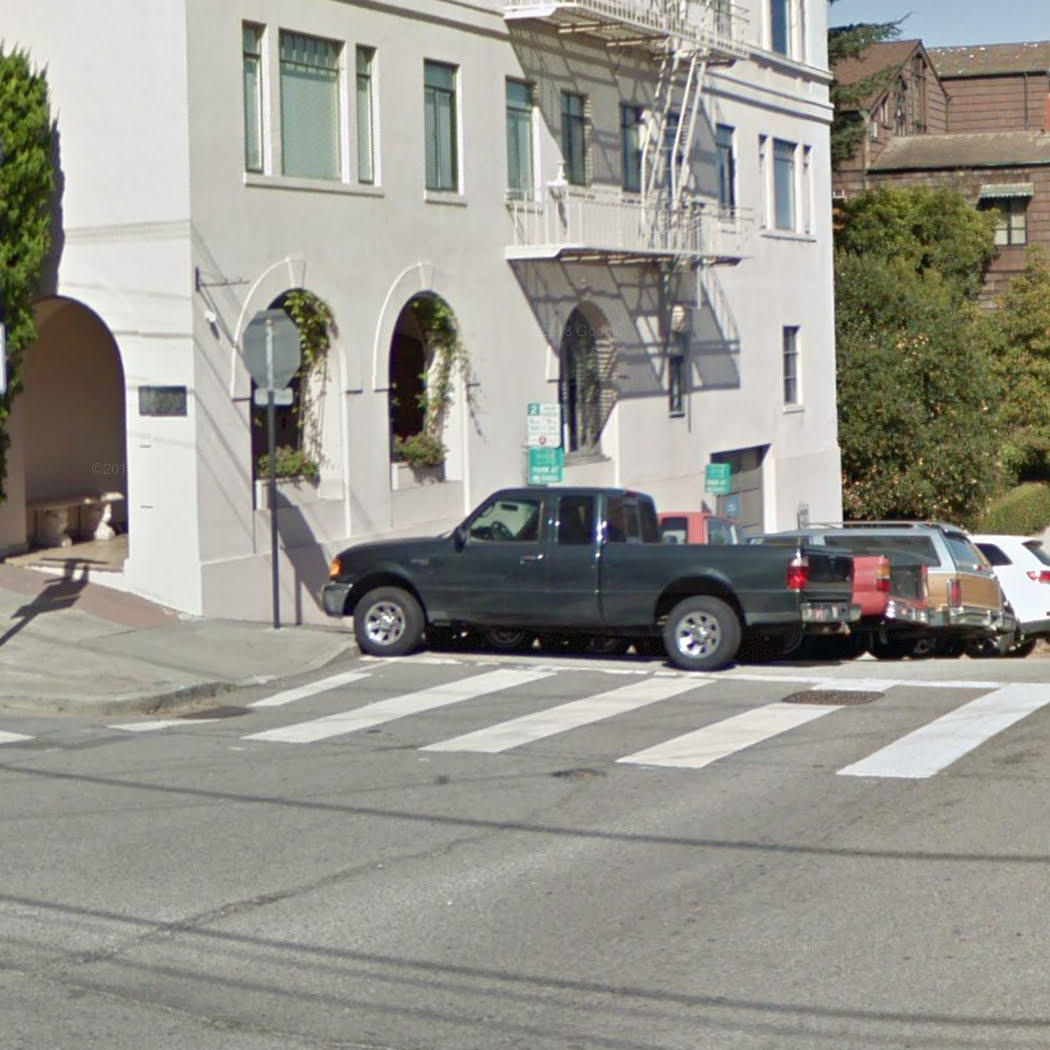2 Hour Parking: (527, 402, 560, 448)
